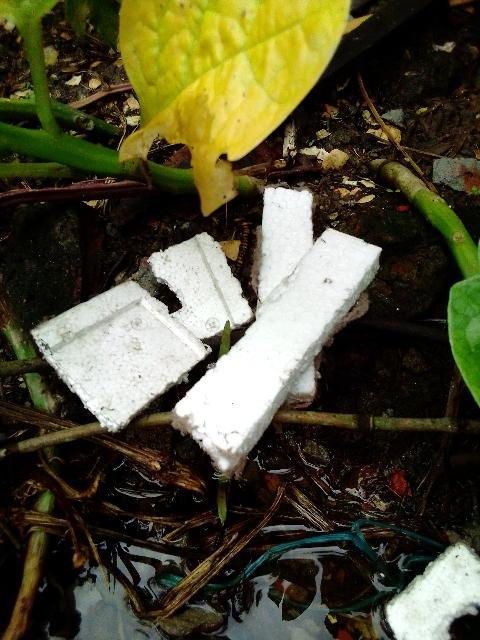cocksheet: (29, 173, 391, 487)
